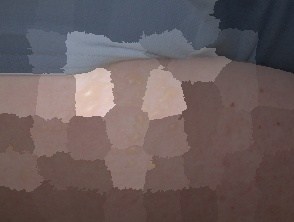SJS-TEN: (0, 51, 294, 222)
